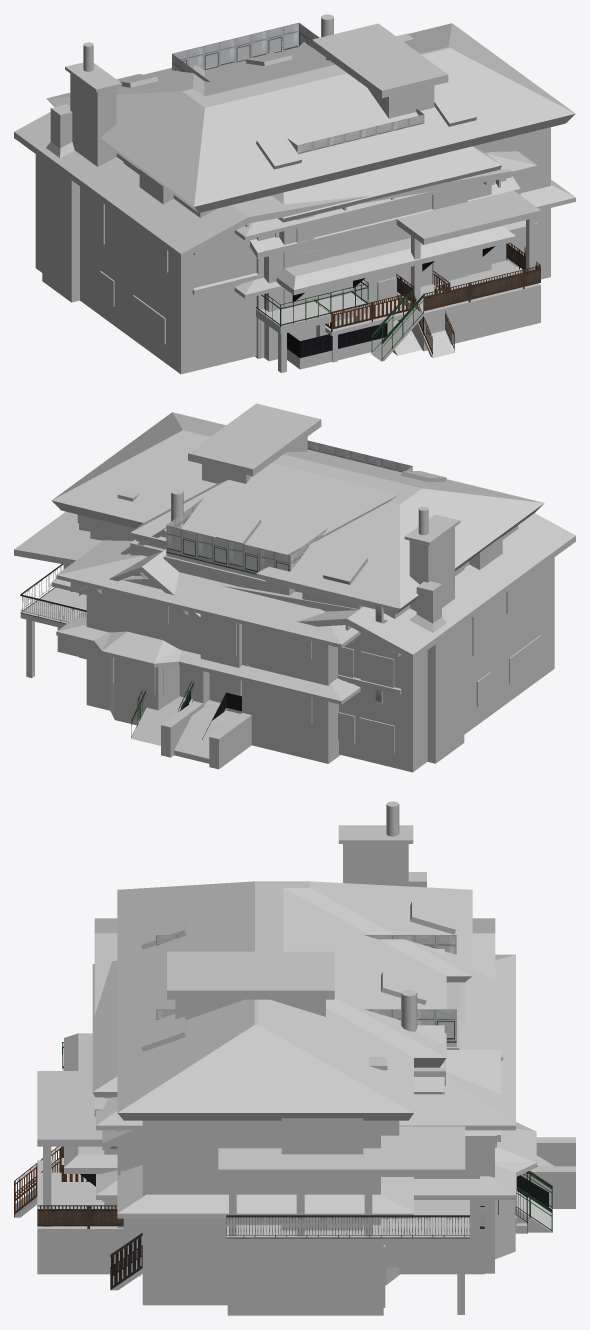
File: houses_separate.FBX
The picture shows the model from 3 angles, top to bottom: view 1: azimuth 30°, elevation 25°; view 2: azimuth 150°, elevation 25°; view 3: azimuth 270°, elevation 25°; orthographic projection. The views are drawn at different scales.
Parts seen in each view (by area): view 1: house-11, house-13, house-12, house-8, house-10, house-14, house-9; view 2: house-11, house-13, house-14, house-10, house-8, house-12, house-9; view 3: house-11, house-13, house-14, house-8, house-10, house-12, house-9.
Part boxes in pixels (bbox=[...]): house-11: bbox=[46, 14, 575, 294]; house-13: bbox=[14, 104, 525, 374]; house-12: bbox=[176, 42, 515, 369]; house-8: bbox=[248, 176, 540, 361]; house-10: bbox=[172, 22, 448, 196]; house-14: bbox=[234, 33, 537, 362]; house-9: bbox=[256, 278, 368, 372]; house-11: bbox=[51, 412, 544, 703]; house-13: bbox=[14, 511, 575, 772]; house-14: bbox=[56, 489, 360, 769]; house-10: bbox=[130, 403, 412, 595]; house-8: bbox=[79, 549, 200, 745]; house-12: bbox=[121, 527, 296, 739]; house-9: bbox=[70, 576, 200, 726]; house-11: bbox=[117, 801, 472, 1305]; house-13: bbox=[94, 872, 495, 1315]; house-14: bbox=[14, 954, 575, 1285]; house-8: bbox=[37, 1050, 552, 1276]; house-10: bbox=[156, 935, 459, 1085]; house-12: bbox=[64, 949, 548, 1208]; house-9: bbox=[62, 1042, 527, 1274].
Size of the model in its own units: 958 by 923 by 530.
